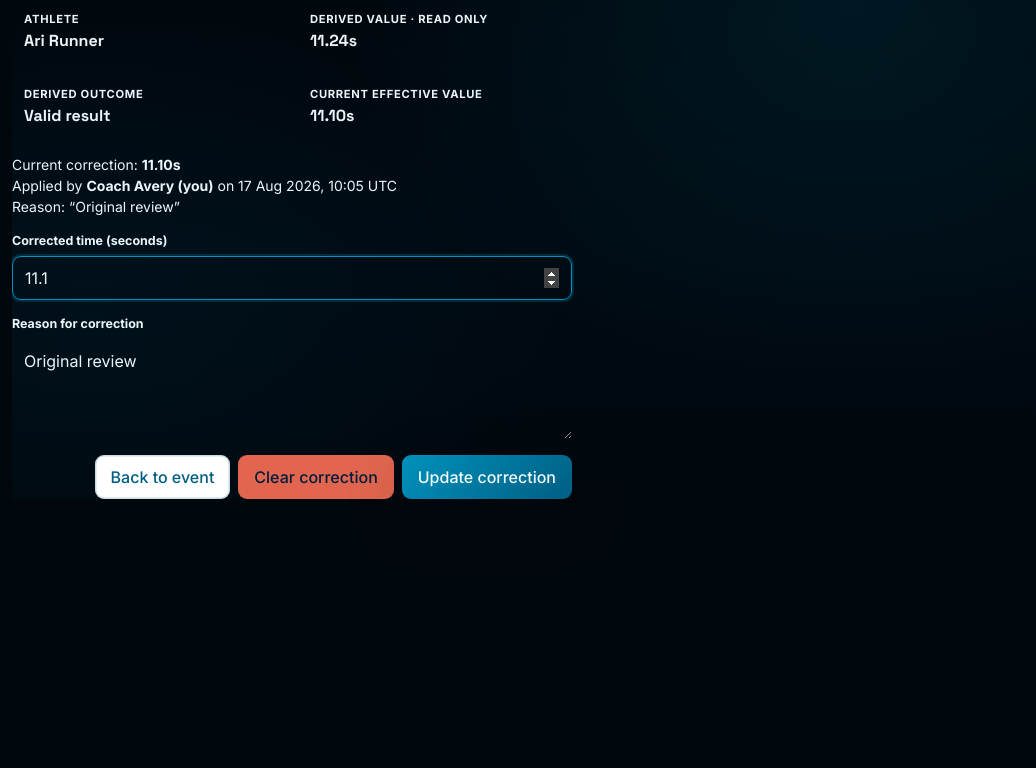
Test case: ResultCorrectionForm › preserves the form draft and existing audit when a mutation fails
Replace the text in the number field labelled "Corrected time (seconds)" with "10.88" at [292, 278], box [12,256,572,300]
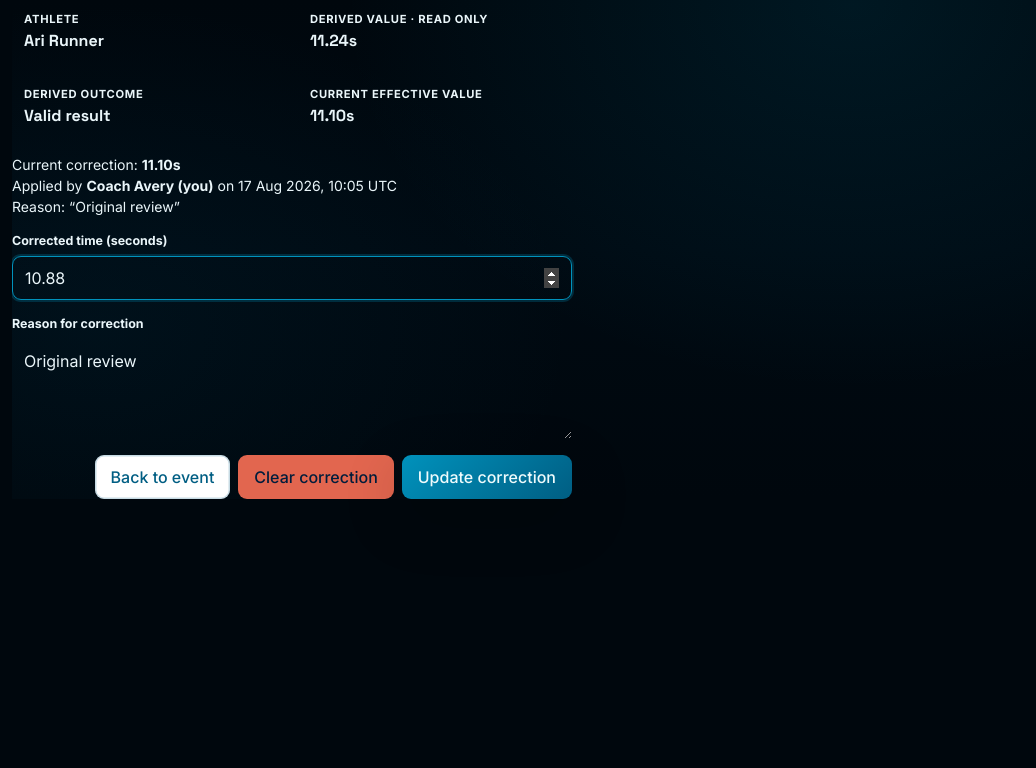
Replace the text in the text box labelled "Reason for correction" with "Second camera review" at [292, 389], box [12,339,572,439]
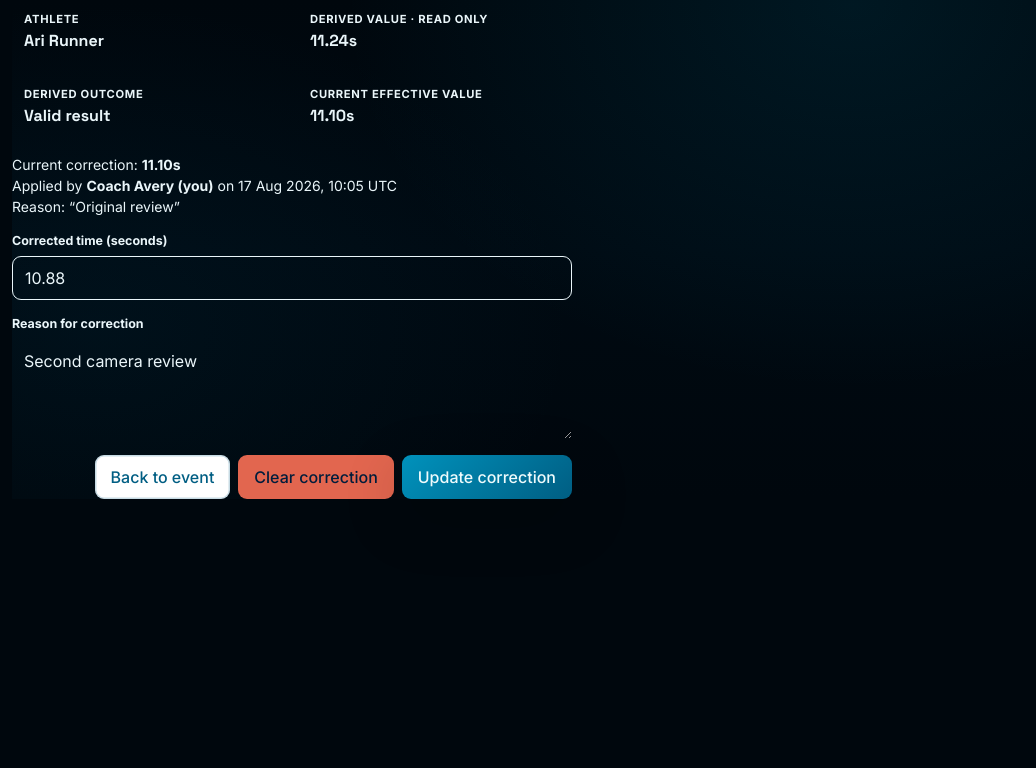
Click the button "Update correction" at [487, 477], box [402,455,572,499]
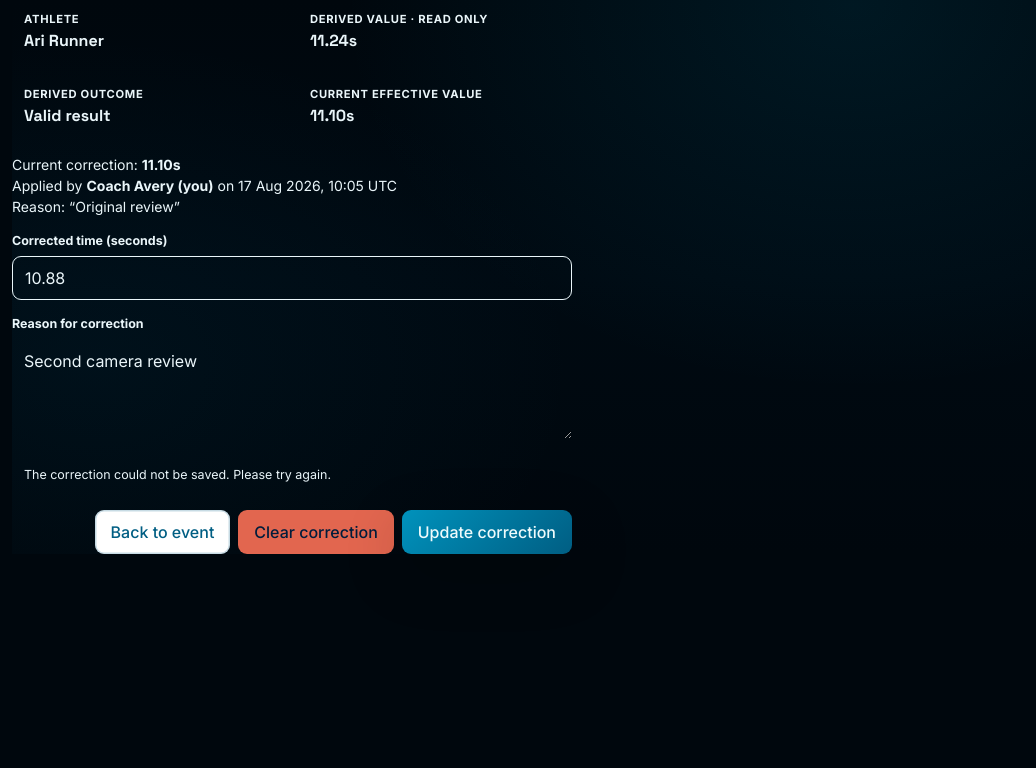
Expected: the text "Current correction:" shows "Current correction: 11.10s", [12,156,397,215]
Expected: the message reads "The correction could not be saved. Please try again.", [24,467,331,482]
